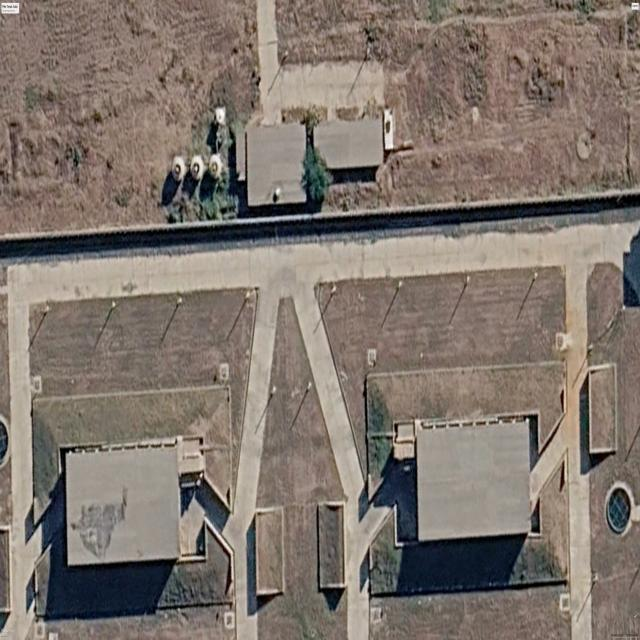Home: (65, 445, 181, 566), (417, 422, 530, 542), (245, 124, 307, 207), (313, 118, 384, 171)
